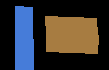parkingspot: (15, 6, 33, 70), (45, 16, 97, 36), (46, 34, 98, 53)
